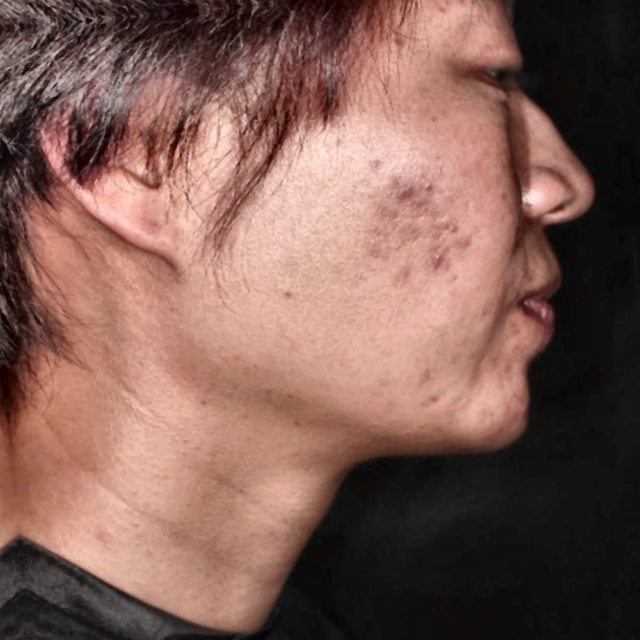comedone: (384, 164, 428, 214), (419, 244, 453, 277)
